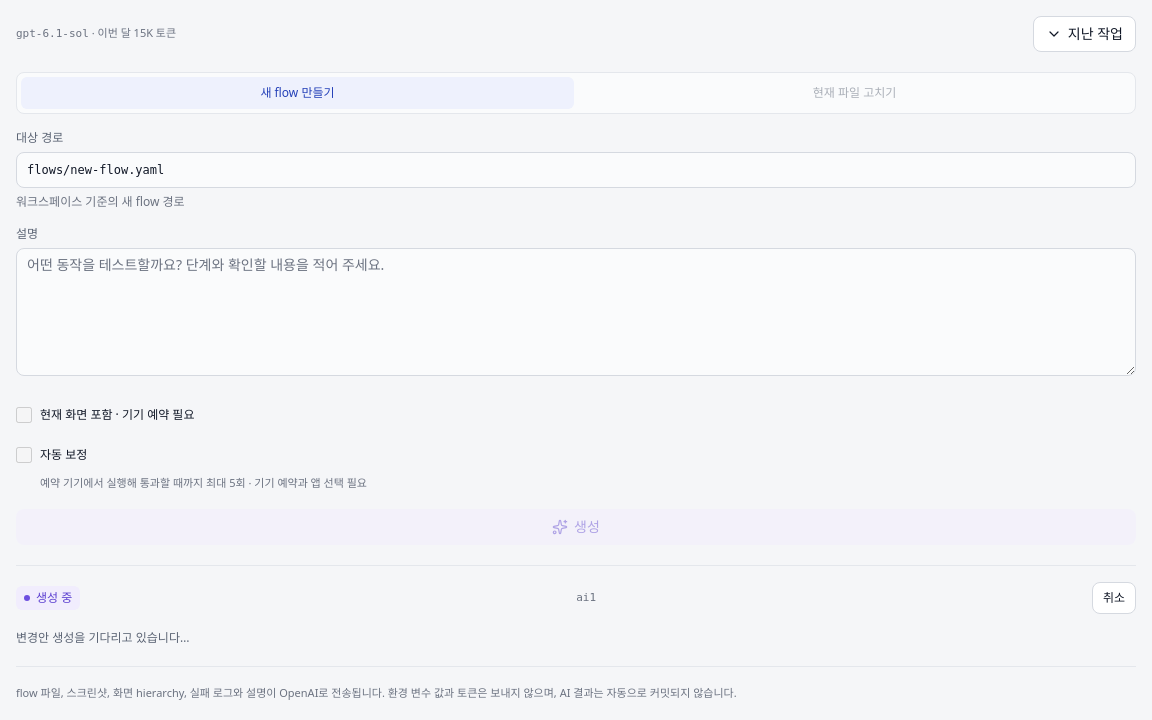
Test case: keeps cancellation feedback after acknowledgement until the job becomes succeeded
Later steps or results of the test are not shown.
Click the button "취소" at (1114, 598), box [1092,582,1136,614]
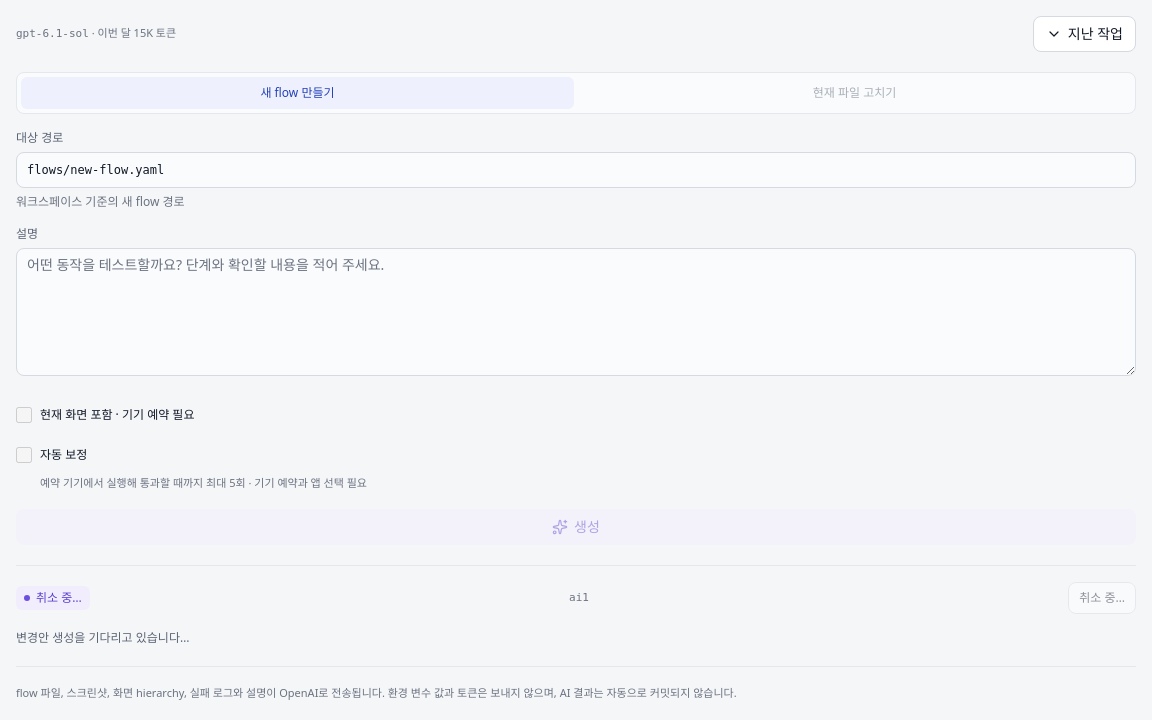
Check: the text "생성 중" is gone
Check: the button "취소 중…" is disabled
Check: the button "취소 중…" is shown
Click the button "취소 중…" at (1102, 598), box [1068,582,1136,614]
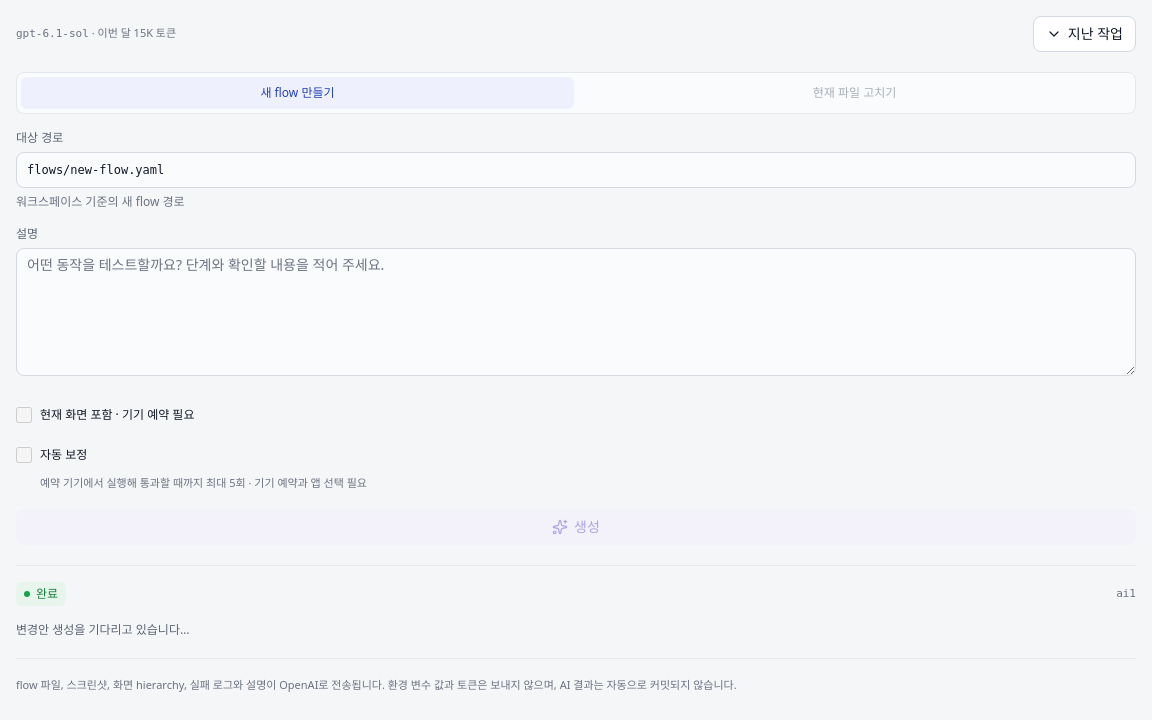
Check: the text "완료" is shown, box [16,582,66,606]
Check: the button "취소" is gone
Check: the text "취소 중…" is gone
